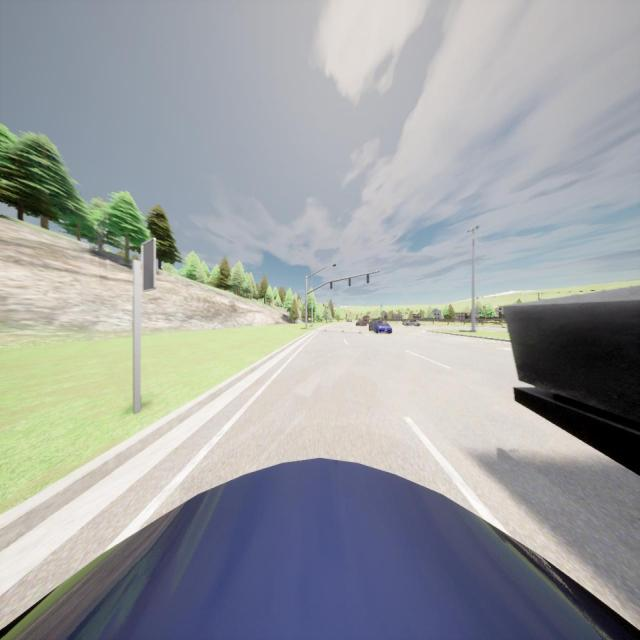Traffic_Signs: (137, 239, 157, 290)
Vehicle: (1, 456, 640, 640), (502, 286, 640, 478), (369, 318, 393, 334), (402, 318, 421, 326), (355, 320, 367, 326), (362, 315, 370, 322)
traffic_light: (366, 274, 369, 283), (349, 278, 351, 286), (330, 282, 332, 289)
